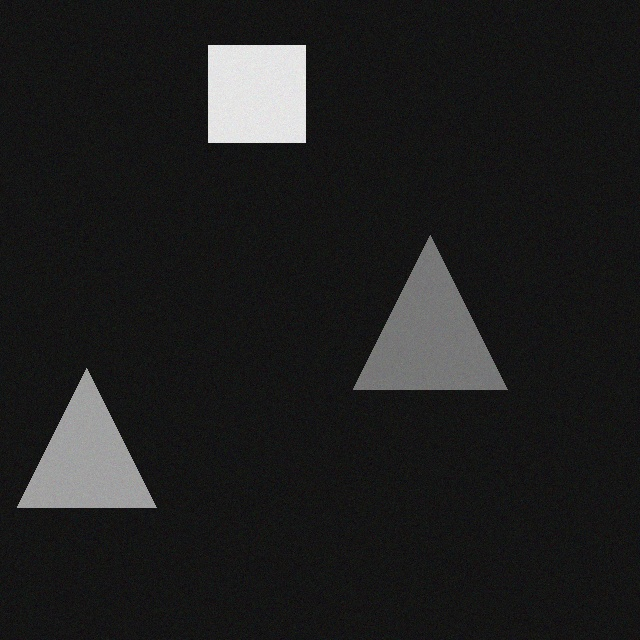square: (222, 59, 319, 156)
triangle: (367, 249, 521, 403), (31, 382, 170, 521)
